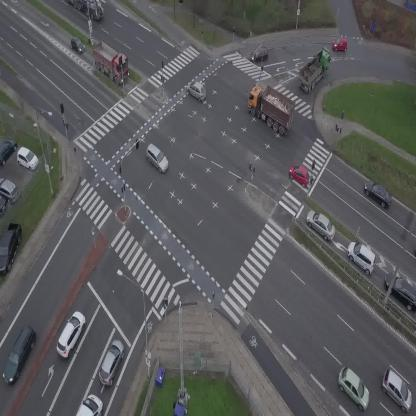car: (0, 324, 41, 386), (330, 364, 378, 412), (51, 308, 90, 359), (95, 337, 129, 388), (341, 237, 383, 277), (301, 205, 341, 244), (359, 178, 397, 211), (140, 142, 173, 174), (285, 161, 314, 189), (184, 78, 210, 102), (66, 34, 87, 57), (250, 46, 269, 61), (333, 38, 347, 51)
lorry: (239, 79, 303, 137), (83, 36, 138, 87), (292, 45, 339, 94), (65, 0, 104, 21), (76, 394, 103, 416)
